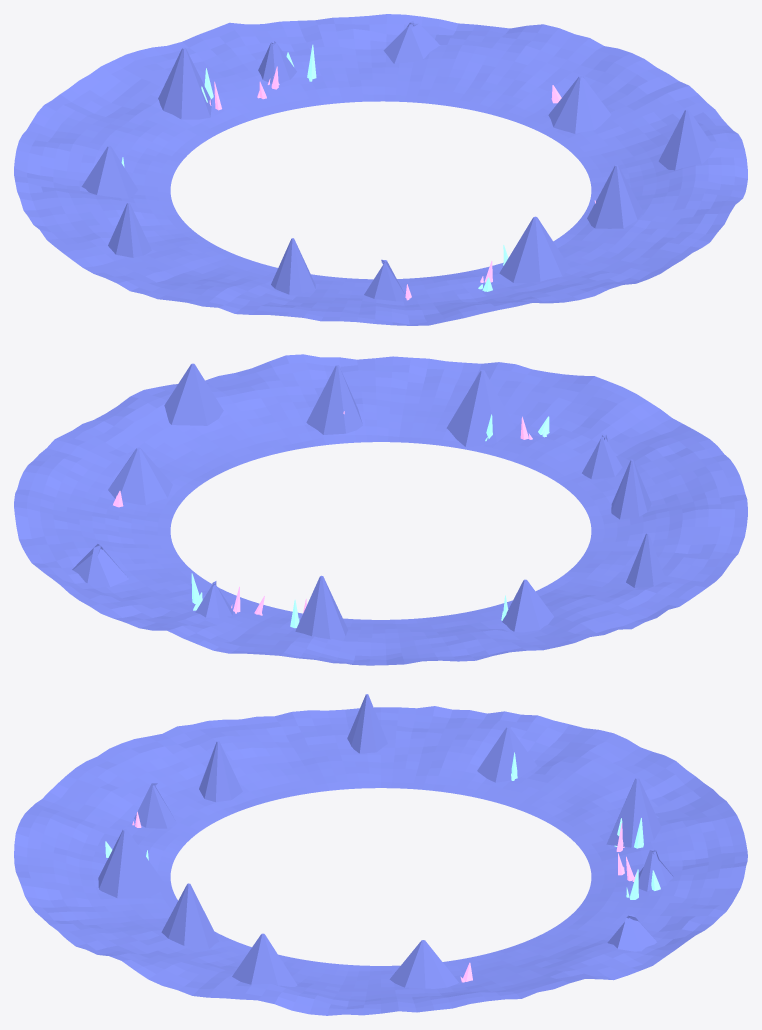
File: landscape_realm.glb
The picture shows the model from 3 angles, top to bottom: view 1: azimuth 30°, elevation 25°; view 2: azimuth 150°, elevation 25°; view 3: azimuth 270°, elevation 25°; orthographic projection.
Parts seen in each view (by area): view 1: rock, crystal_pink, crystal_cyan; view 2: rock, crystal_cyan, crystal_pink; view 3: rock, crystal_cyan, crystal_pink.
Boxes of the visible parts, box(x1,y1,x2,y2) form: rock: box(14, 14, 747, 325); crystal_pink: box(209, 66, 595, 300); crystal_cyan: box(121, 44, 508, 291); rock: box(14, 354, 747, 665); crystal_cyan: box(191, 414, 549, 628); crystal_pink: box(113, 411, 532, 615); rock: box(14, 694, 747, 1015); crystal_cyan: box(105, 752, 660, 899); crystal_pink: box(132, 811, 636, 982).
Bounding box in the file's own units: 600 × 61.73 × 600.
